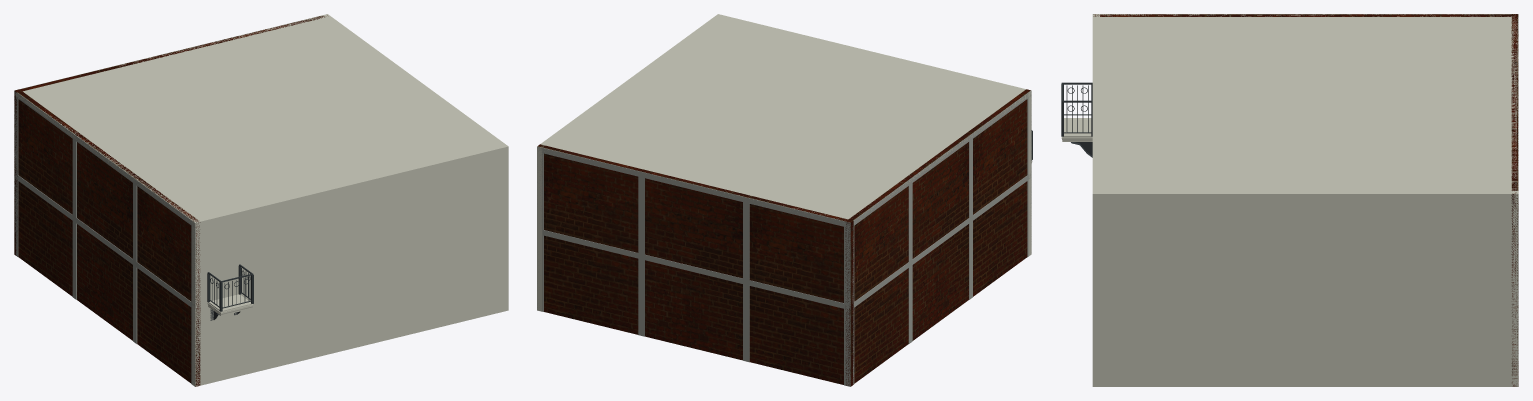
The model's file is building.glb.
3 renders of one model, left to right at view 1: azimuth 30°, elevation 25°; view 2: azimuth 150°, elevation 25°; view 3: azimuth 270°, elevation 25°, orthographic. The views are drawn at different scales.
Visible parts, largest first — view 1: roof/house:0/roof_slab#0001, house:0/edge0/z0/house:0/edge0/z0/wall_0_0, house:0/edge3/z0/house:0/edge3/z0/wall_0_0, house:0/edge2/z0/house:0/edge2/z0/wall_0_0, house:0/edge3/z0/house:0/edge3/z0/beam_0_0, house:0/edge3/z0/house:0/edge3/z0/beam_1_0, house:0/edge1/z0/house:0/edge1/z0/wall_0_0, balcony/sample/balcony_platform#0001; view 2: roof/house:0/roof_slab#0001, house:0/edge2/z0/house:0/edge2/z0/wall_0_0, house:0/edge3/z0/house:0/edge3/z0/wall_0_0, house:0/edge1/z0/house:0/edge1/z0/wall_0_0, house:0/edge2/z0/house:0/edge2/z0/beam_1_0, house:0/edge2/z0/house:0/edge2/z0/beam_0_0, house:0/edge0/z0/house:0/edge0/z0/wall_0_0, house:0/edge3/z0/house:0/edge3/z0/beam_0_0, house:0/edge3/z0/house:0/edge3/z0/beam_1_0, house:0/edge2/z0/house:0/edge2/z0/column_2_0, house:0/edge2/z0/house:0/edge2/z0/column_2_1, house:0/edge2/z0/house:0/edge2/z0/column_3_0 (+3 smaller); view 3: house:0/edge1/z0/house:0/edge1/z0/wall_0_0, roof/house:0/roof_slab#0001, house:0/edge0/z0/house:0/edge0/z0/wall_0_0, house:0/edge2/z0/house:0/edge2/z0/wall_0_0, house:0/edge3/z0/house:0/edge3/z0/wall_0_0, balcony/sample/balcony_platform#0001.
Part boxes in pixels (x1,y1,x2,y2): roof/house:0/roof_slab#0001: (15,14,506,225); house:0/edge0/z0/house:0/edge0/z0/wall_0_0: (192,144,508,386); house:0/edge3/z0/house:0/edge3/z0/wall_0_0: (17,89,200,386); house:0/edge2/z0/house:0/edge2/z0/wall_0_0: (14,15,327,255); house:0/edge3/z0/house:0/edge3/z0/beam_0_0: (14,173,195,309); house:0/edge3/z0/house:0/edge3/z0/beam_1_0: (14,92,195,227); house:0/edge1/z0/house:0/edge1/z0/wall_0_0: (323,14,508,311); balcony/sample/balcony_platform#0001: (208,294,252,312); roof/house:0/roof_slab#0001: (540,14,1031,223); house:0/edge2/z0/house:0/edge2/z0/wall_0_0: (538,144,853,386); house:0/edge3/z0/house:0/edge3/z0/wall_0_0: (845,89,1030,385); house:0/edge1/z0/house:0/edge1/z0/wall_0_0: (537,15,722,311); house:0/edge2/z0/house:0/edge2/z0/beam_1_0: (538,147,850,228); house:0/edge2/z0/house:0/edge2/z0/beam_0_0: (542,230,850,309); house:0/edge0/z0/house:0/edge0/z0/wall_0_0: (717,14,1031,256); house:0/edge3/z0/house:0/edge3/z0/beam_0_0: (850,172,1031,309); house:0/edge3/z0/house:0/edge3/z0/beam_1_0: (850,90,1031,227); house:0/edge2/z0/house:0/edge2/z0/column_2_0: (638,176,644,254); house:0/edge2/z0/house:0/edge2/z0/column_2_1: (638,258,644,336); house:0/edge2/z0/house:0/edge2/z0/column_3_0: (743,202,749,280); house:0/edge1/z0/house:0/edge1/z0/wall_0_0: (1092,191,1518,386); roof/house:0/roof_slab#0001: (1092,14,1518,198); house:0/edge0/z0/house:0/edge0/z0/wall_0_0: (1092,14,1099,386); house:0/edge2/z0/house:0/edge2/z0/wall_0_0: (1511,14,1518,386); house:0/edge3/z0/house:0/edge3/z0/wall_0_0: (1093,14,1517,16); balcony/sample/balcony_platform#0001: (1063,118,1092,137).
Bounding box in the file's own units: 12 × 6 × 12.89.
Materials: 4 (1 with a texture image).
